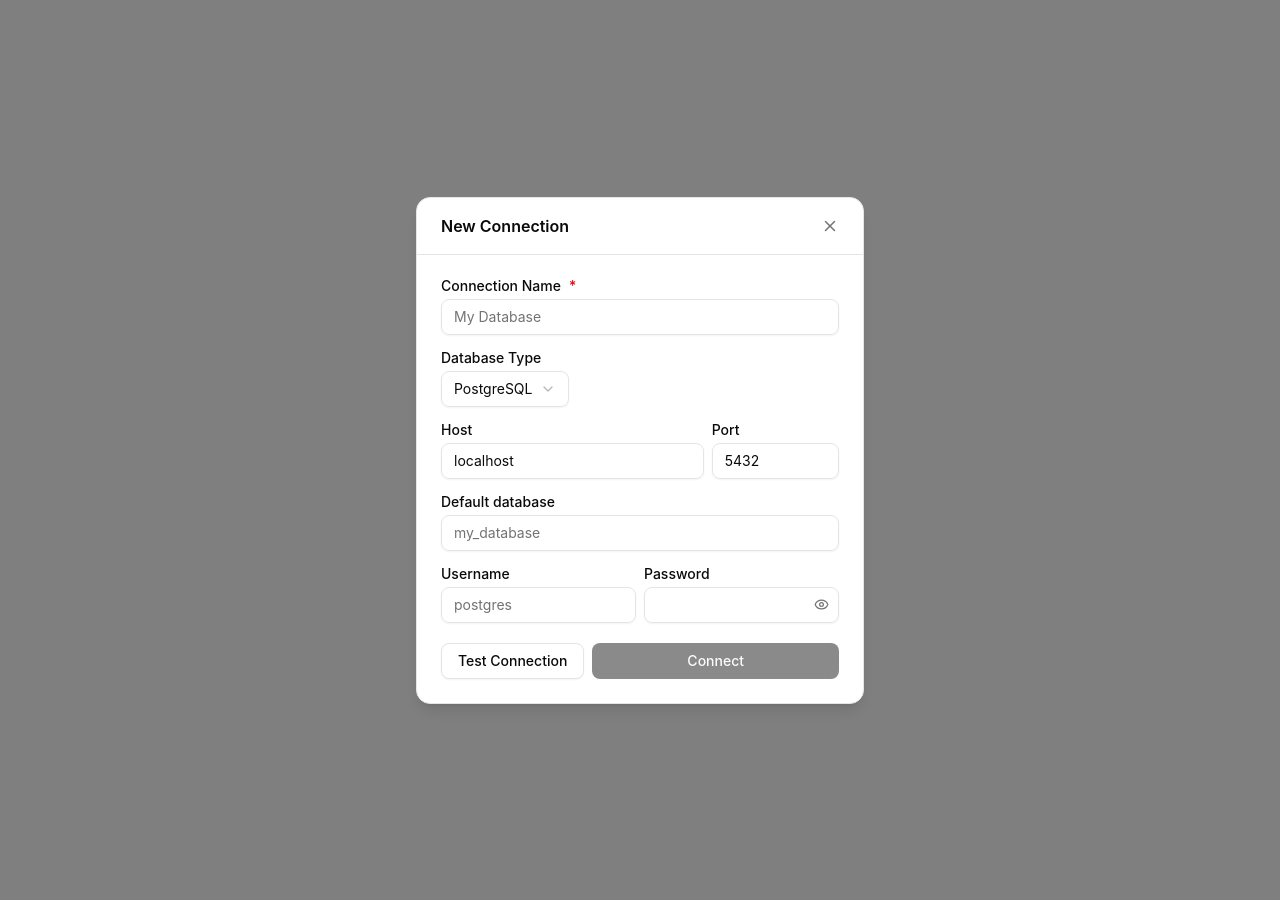
DB type select › selecting postgres from MySQL restores port to 5432
Select MySQL first
Click the dropdown: (505, 388) x1=441 y1=370 x2=570 y2=406
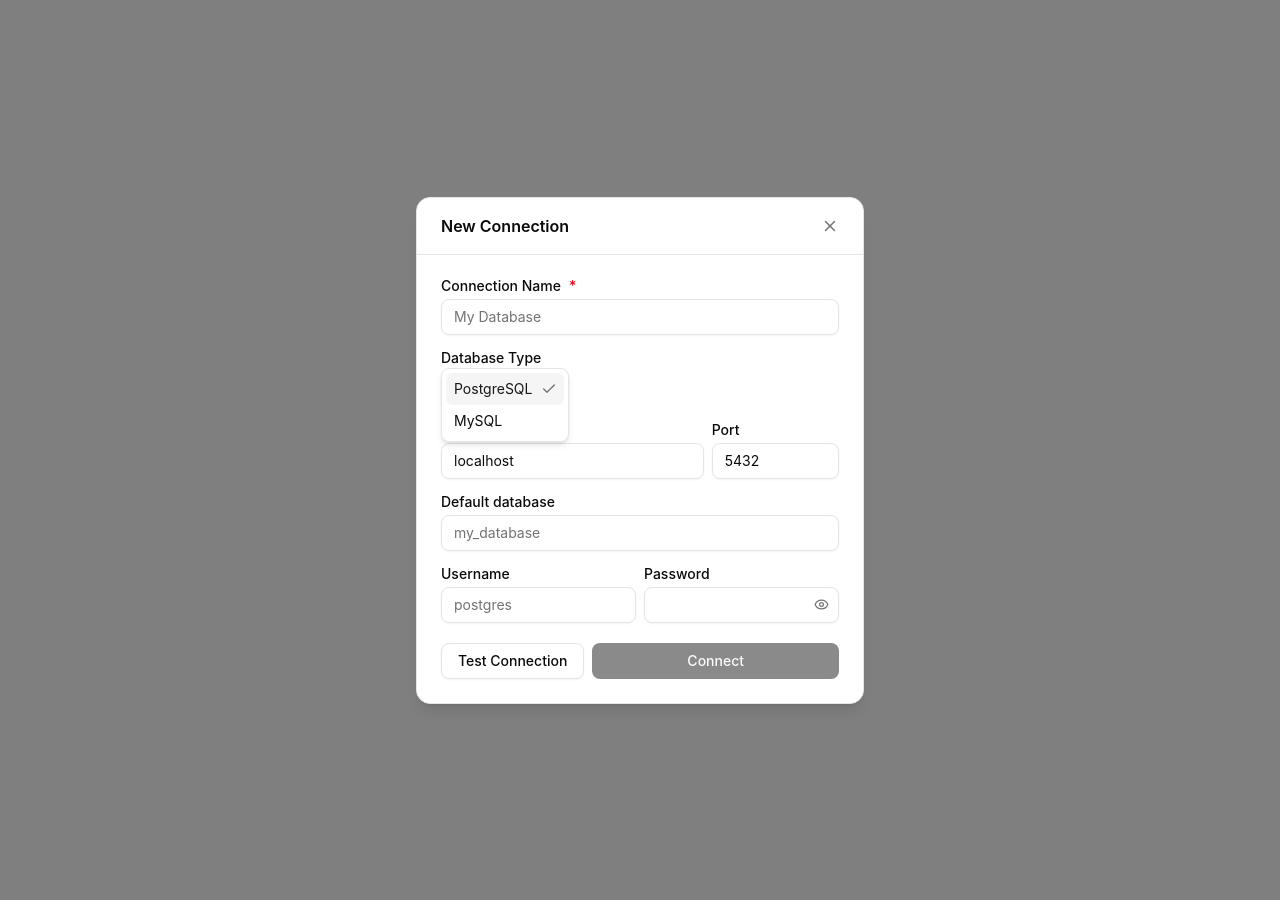
Click the option "MySQL": (478, 420) x1=454 y1=412 x2=502 y2=428
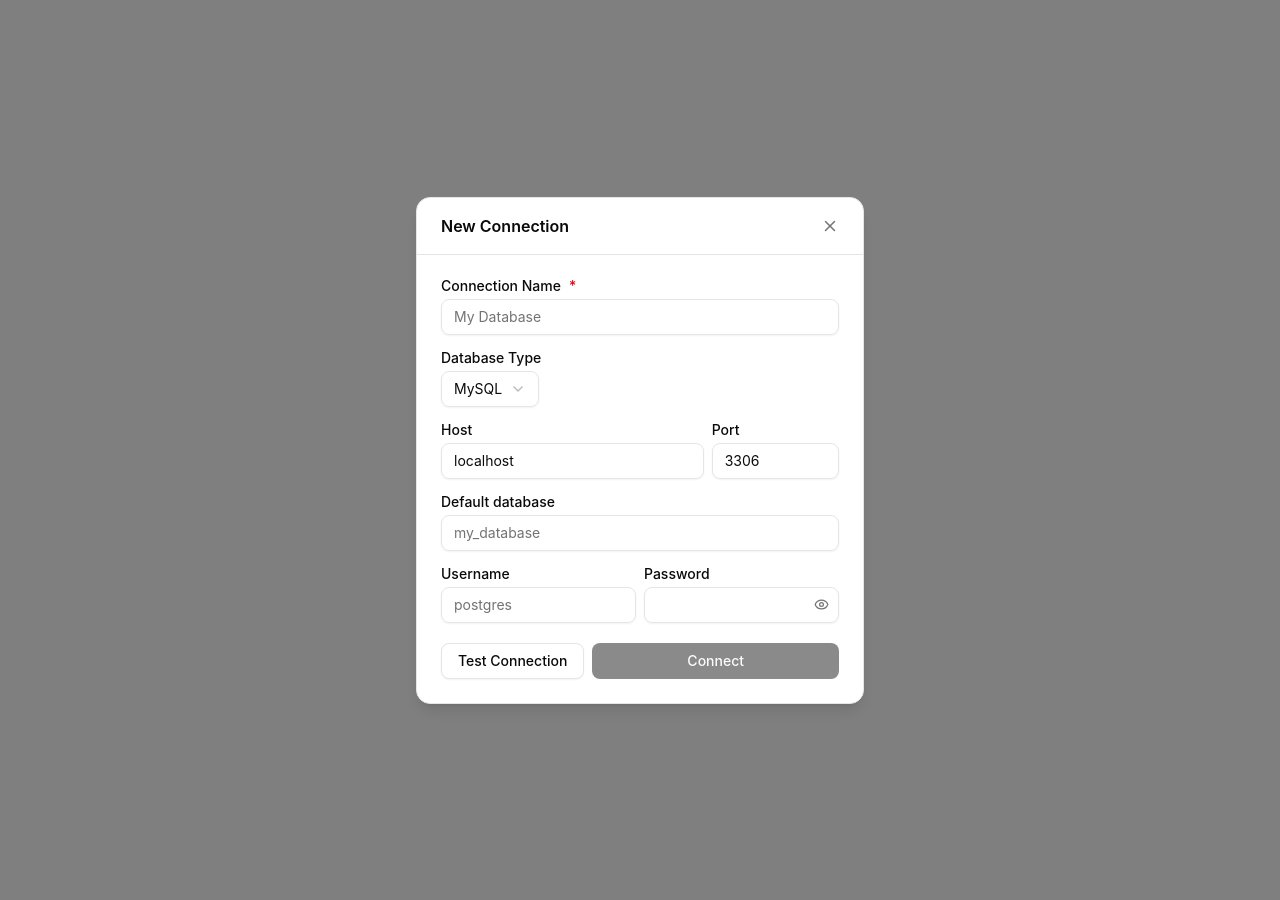
Select postgres back
Click the dropdown: (490, 388) x1=441 y1=370 x2=539 y2=406
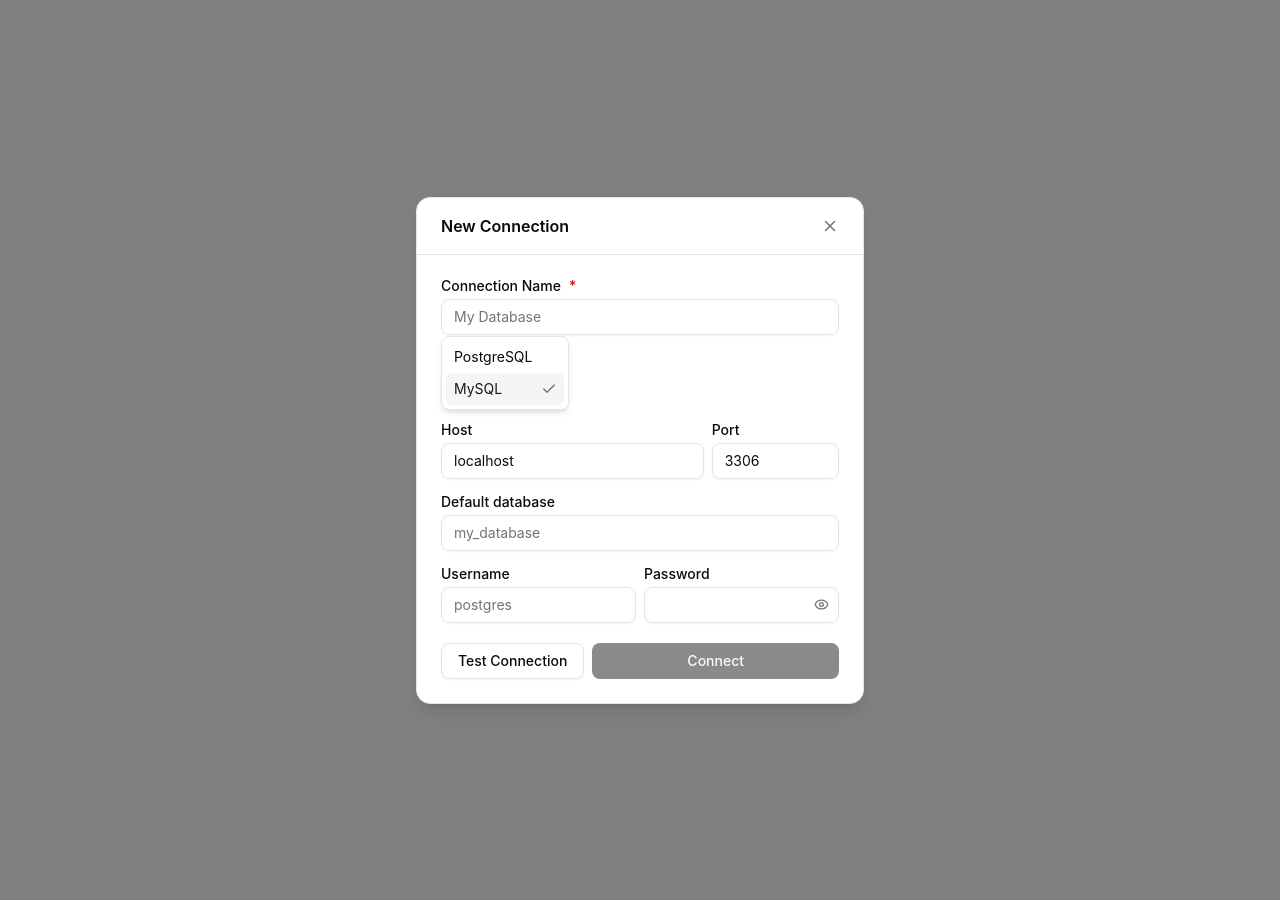
Click the option "PostgreSQL": (493, 356) x1=454 y1=348 x2=532 y2=364
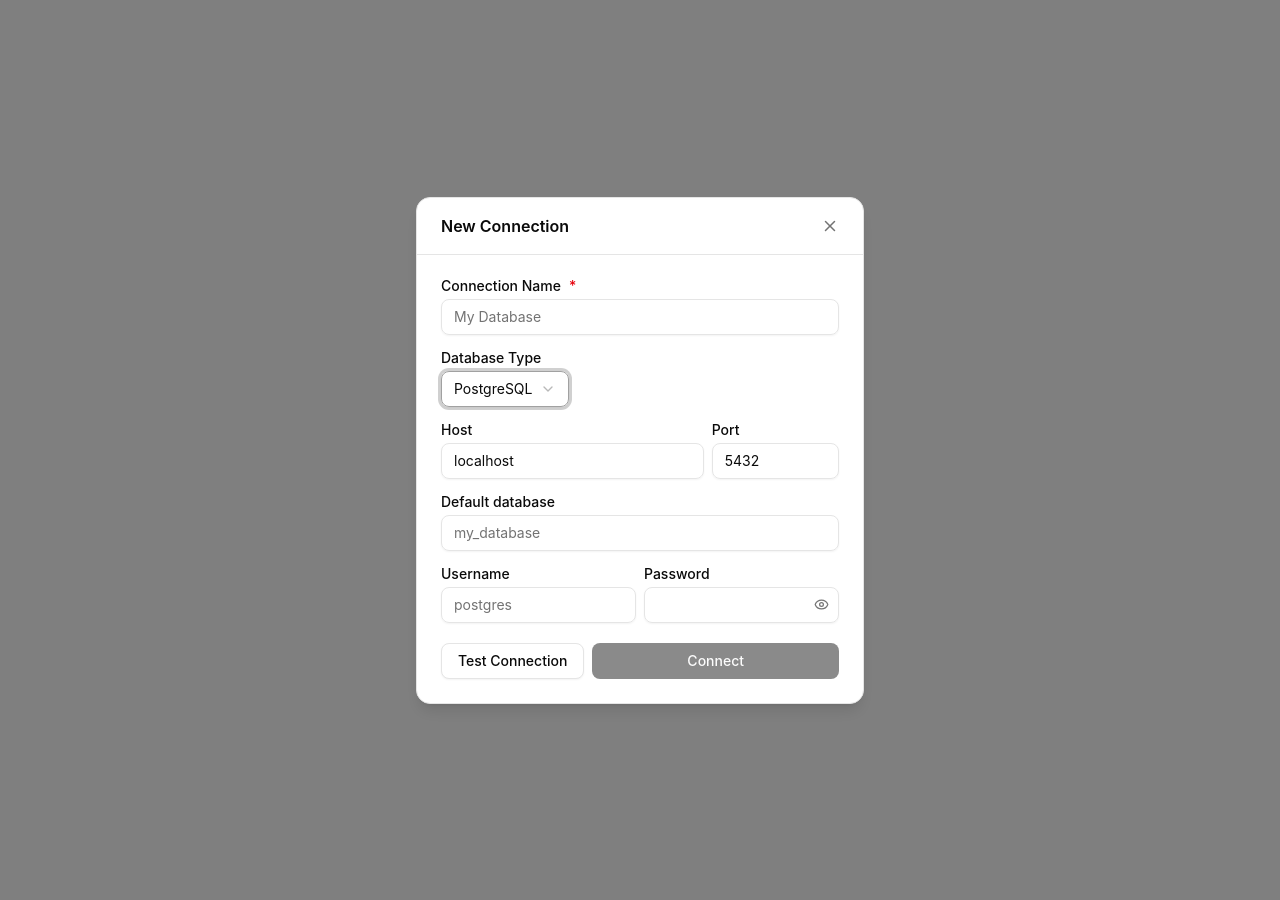
Result: the number field holds "5432" at x1=712 y1=442 x2=839 y2=478
